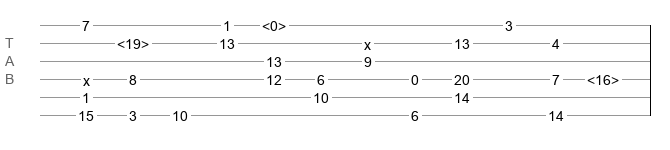0: (411, 72, 419, 82)
1: (82, 90, 90, 100), (223, 18, 231, 28)
10: (172, 108, 188, 118), (313, 90, 329, 100)
12: (266, 72, 282, 82)
13: (219, 36, 235, 46), (266, 54, 282, 64), (454, 36, 470, 46)
14: (454, 90, 470, 100), (548, 108, 564, 118)
15: (78, 108, 94, 118)
20: (454, 72, 470, 82)
3: (129, 108, 137, 118), (505, 18, 513, 28)
4: (552, 36, 560, 46)
6: (317, 72, 325, 82), (411, 108, 419, 118)
7: (82, 18, 90, 28), (552, 72, 560, 82)
8: (129, 72, 137, 82)
9: (364, 54, 372, 64)
harmonic: (117, 36, 149, 46), (587, 72, 619, 82), (262, 18, 286, 28)
x: (83, 73, 90, 81), (364, 37, 371, 45)
